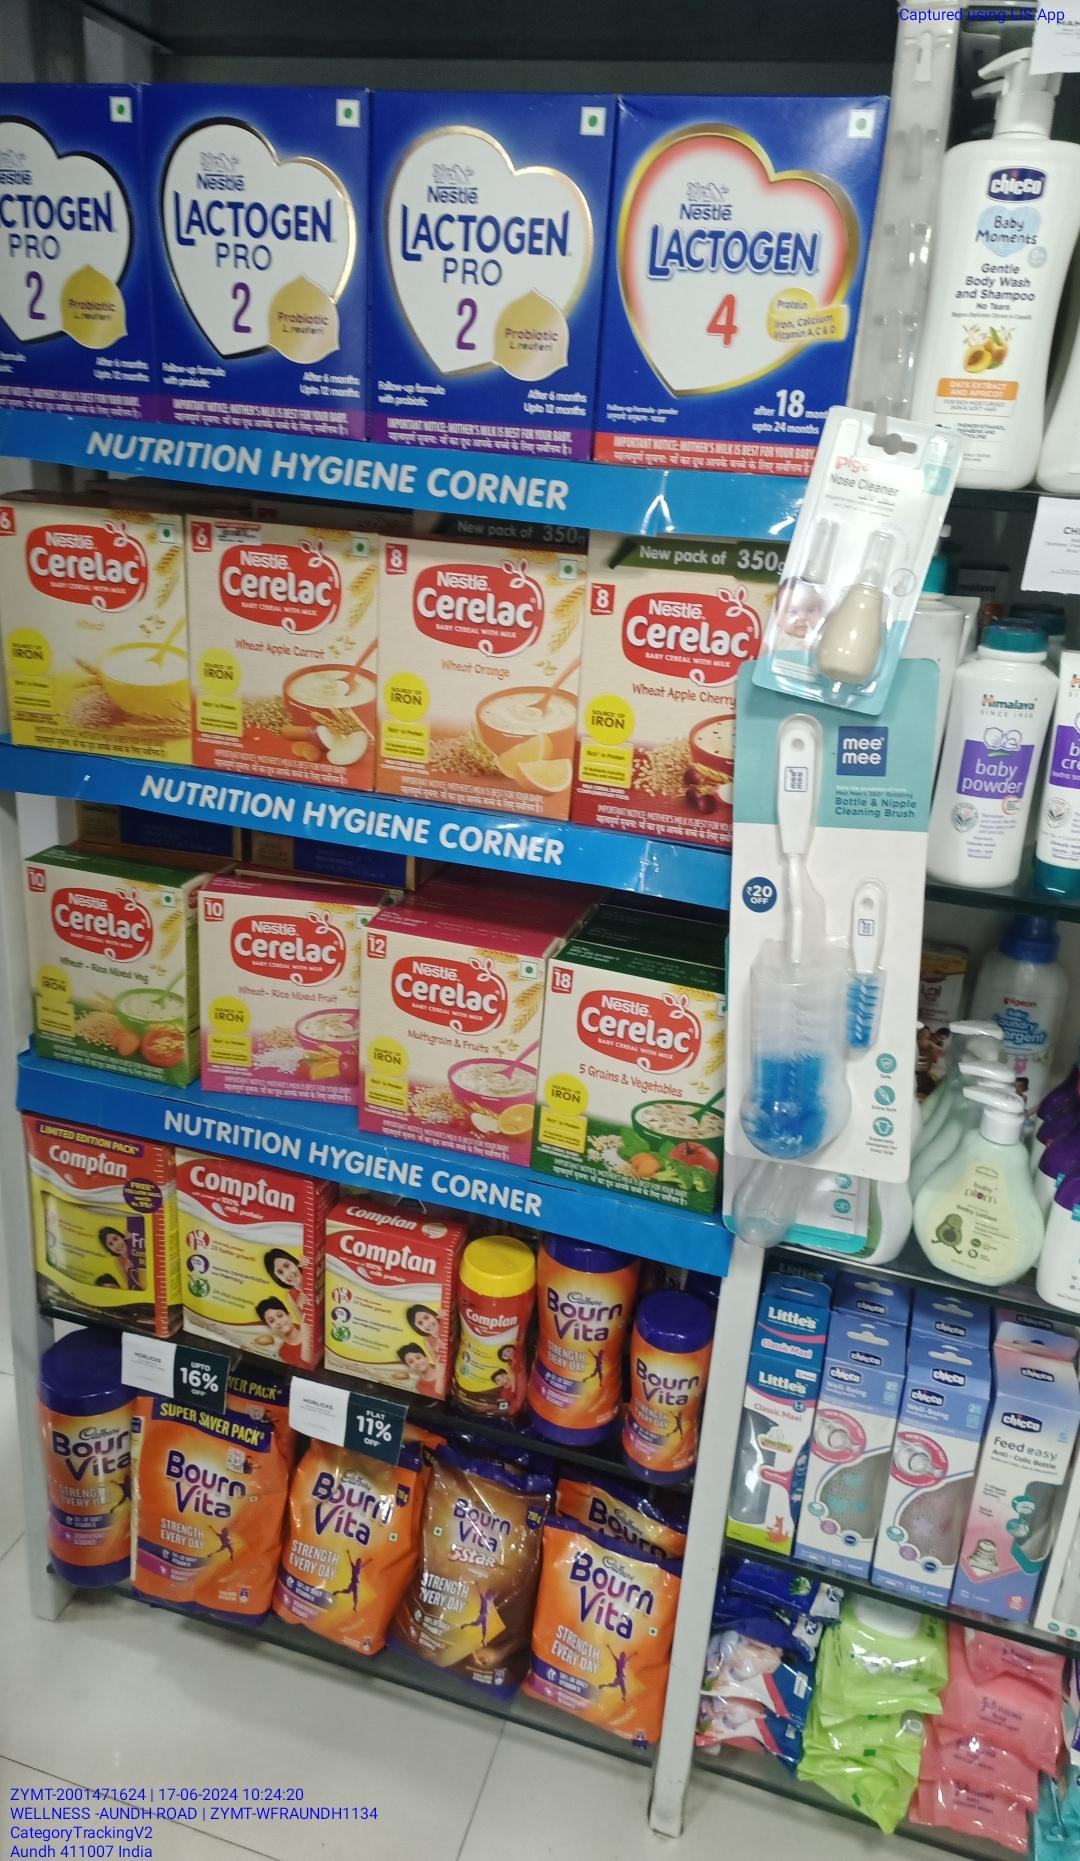BOURN_VITA_200_G_JAR: (626, 1294, 702, 1479)
BOURN_VITA_FIVE_STAR_MAGIC_750_G_POUCH: (417, 1456, 535, 1681)
COMPLAN_CHOCOLATE_200_GMS_JAR: (454, 1233, 527, 1420)
